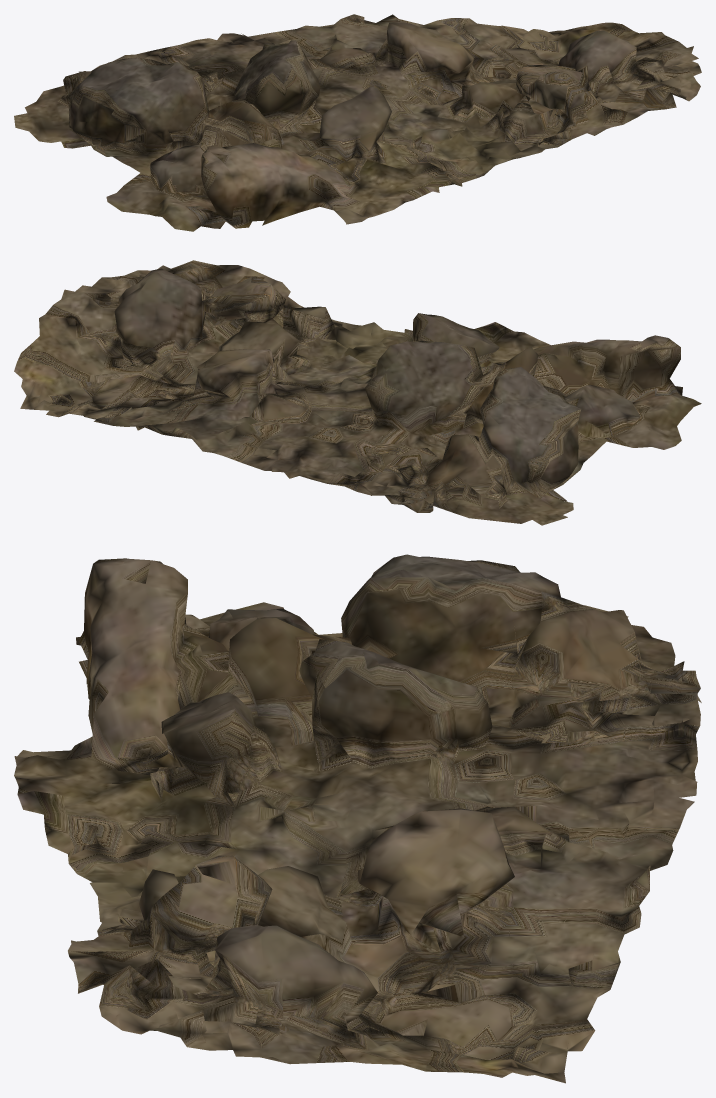
The model's file is coast_land_rocks_03_lod2.glb.
3 views of the same model, one above another, from view 1: azimuth 30°, elevation 25°; view 2: azimuth 150°, elevation 25°; view 3: azimuth 270°, elevation 25° (orthographic). The views are drawn at different scales.
Parts seen in each view (by area): view 1: coast_land_rocks_03; view 2: coast_land_rocks_03; view 3: coast_land_rocks_03.
Part boxes in pixels (x1,y1,x2,y2): coast_land_rocks_03: (14,14,701,231); coast_land_rocks_03: (14,260,701,525); coast_land_rocks_03: (14,554,701,1083).
Size of the model in its own units: 8.95 by 1.49 by 5.53.
1 material, 1 textured.
